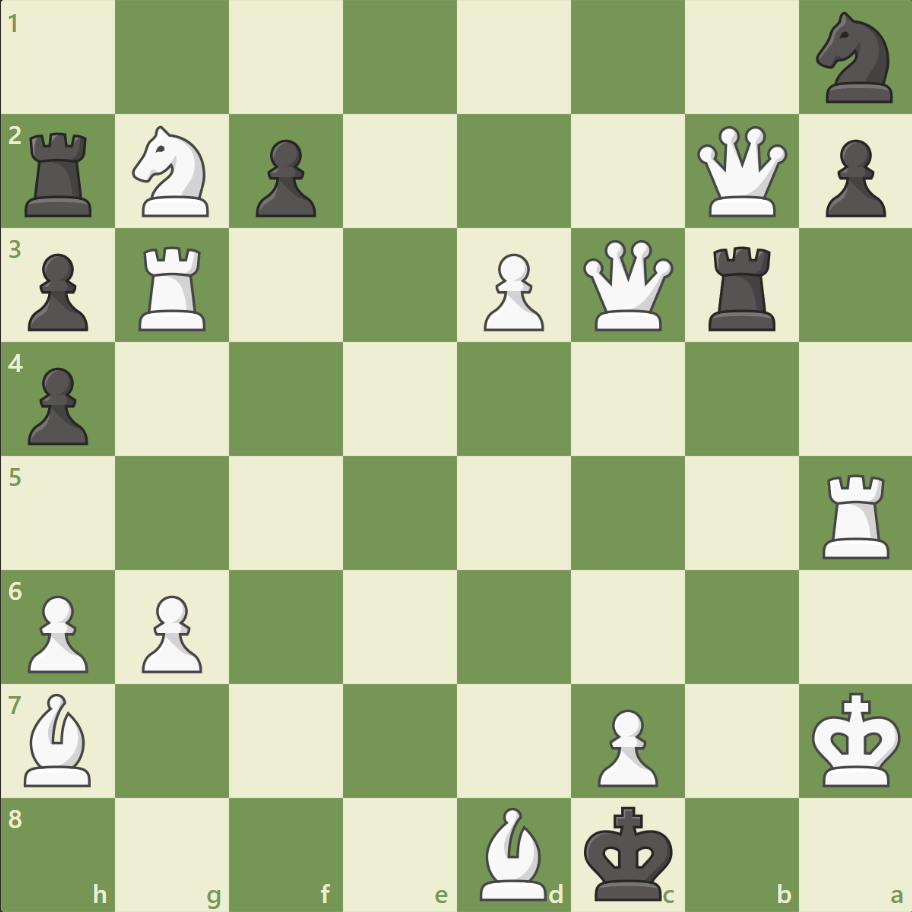B: (471, 801, 555, 904), (17, 687, 101, 790)
K: (806, 685, 906, 793)
N: (124, 121, 222, 223)
P: (133, 586, 208, 677), (20, 586, 95, 677), (474, 246, 549, 337), (588, 700, 662, 791)
Q: (691, 122, 790, 222), (578, 236, 677, 335)
R: (814, 466, 897, 563), (133, 239, 215, 336)
k: (579, 798, 679, 906)
n: (806, 7, 903, 110)
p: (20, 359, 95, 450), (20, 246, 95, 337), (247, 132, 322, 223), (815, 132, 889, 223)
r: (700, 239, 783, 336), (19, 125, 102, 222)
